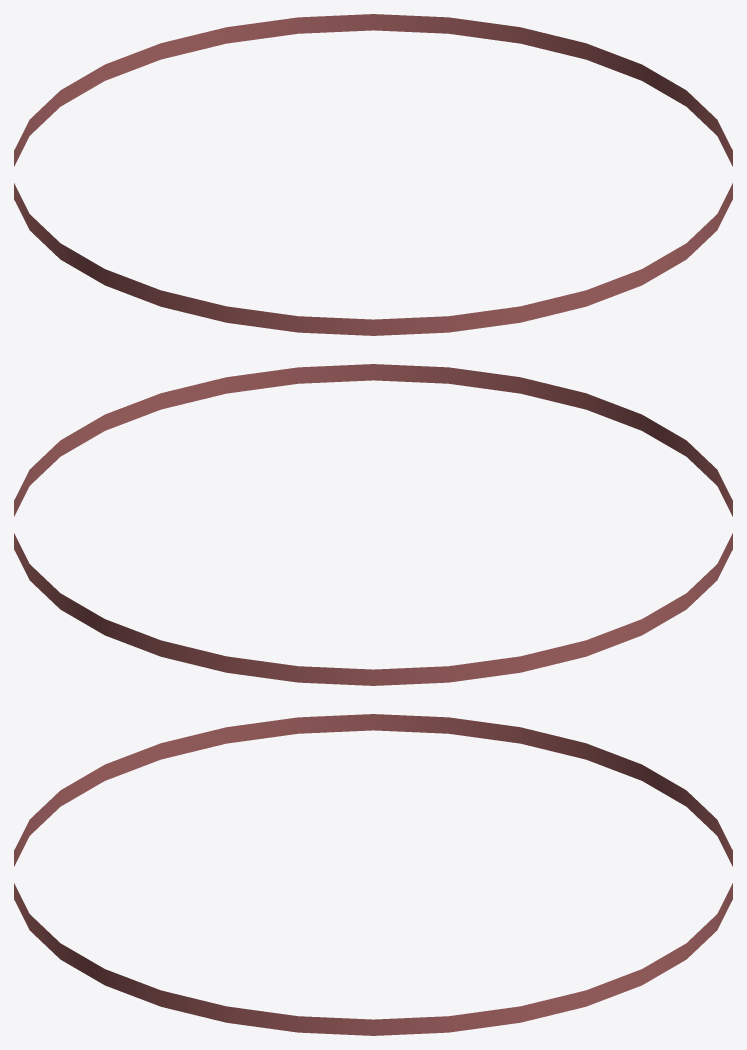
File: Disc_2_perimetr.fbx
The picture shows the model from 3 angles, top to bottom: view 1: azimuth 30°, elevation 25°; view 2: azimuth 150°, elevation 25°; view 3: azimuth 270°, elevation 25°; orthographic projection.
Parts seen in each view (by area): view 1: polySurface148; view 2: polySurface148; view 3: polySurface148.
Part boxes in pixels (x1,y1,x2,y2): polySurface148: (14, 14, 732, 335); polySurface148: (14, 364, 732, 685); polySurface148: (14, 714, 732, 1035).
Size of the model in its own units: 5.9 by 0.1478 by 5.87.
